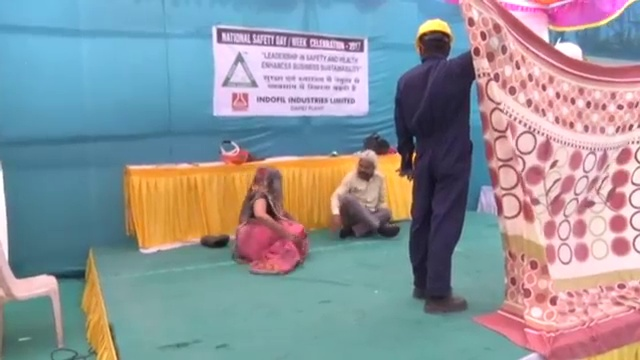helmet: (414, 17, 453, 42)
helmet_off: (253, 164, 282, 184), (359, 150, 379, 175)
helmet_on: (414, 17, 453, 63)
person: (392, 18, 477, 315), (233, 166, 308, 274), (330, 150, 397, 241)
